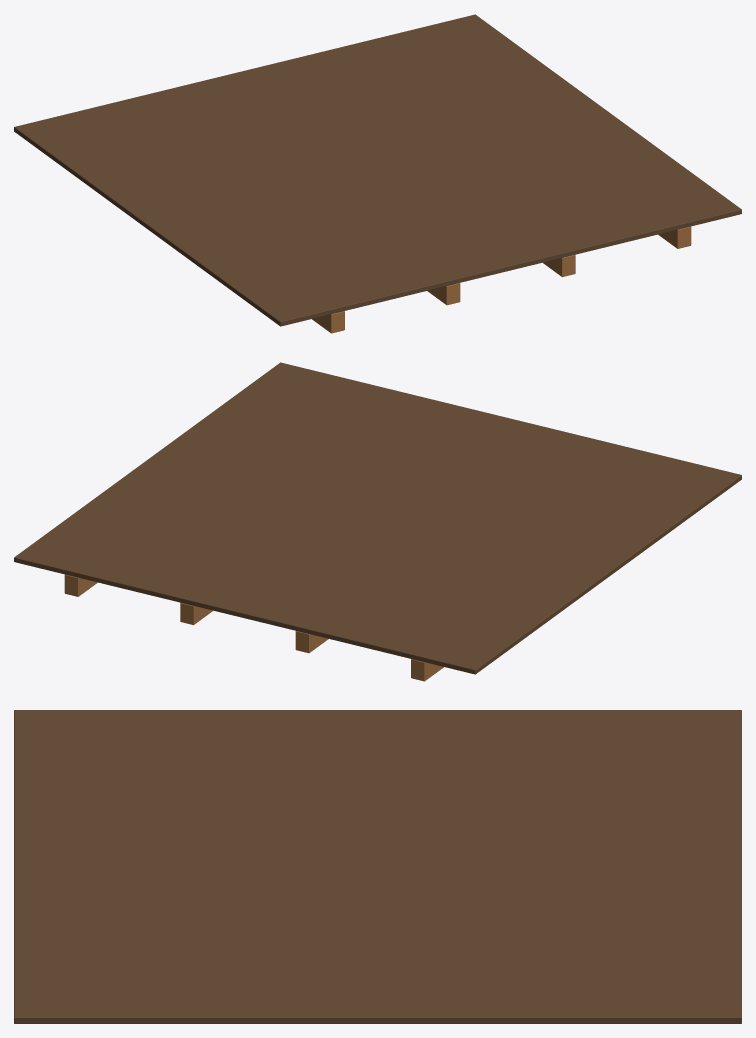
Rendered from b21_ceiling_exposed_beams_4x4m.glb.
3 renders of one model, top to bottom at view 1: azimuth 30°, elevation 25°; view 2: azimuth 150°, elevation 25°; view 3: azimuth 270°, elevation 25°, orthographic. The views are drawn at different scales.
Visible parts, largest first — view 1: b21_ceiling_exposed_beams_4x4m; view 2: b21_ceiling_exposed_beams_4x4m; view 3: b21_ceiling_exposed_beams_4x4m.
Part boxes in pixels (bbox=[...]): b21_ceiling_exposed_beams_4x4m: bbox=[14, 14, 741, 333]; b21_ceiling_exposed_beams_4x4m: bbox=[14, 362, 741, 681]; b21_ceiling_exposed_beams_4x4m: bbox=[14, 710, 741, 1023].
Bounding box in the file's own units: 4 × 0.2 × 4.
